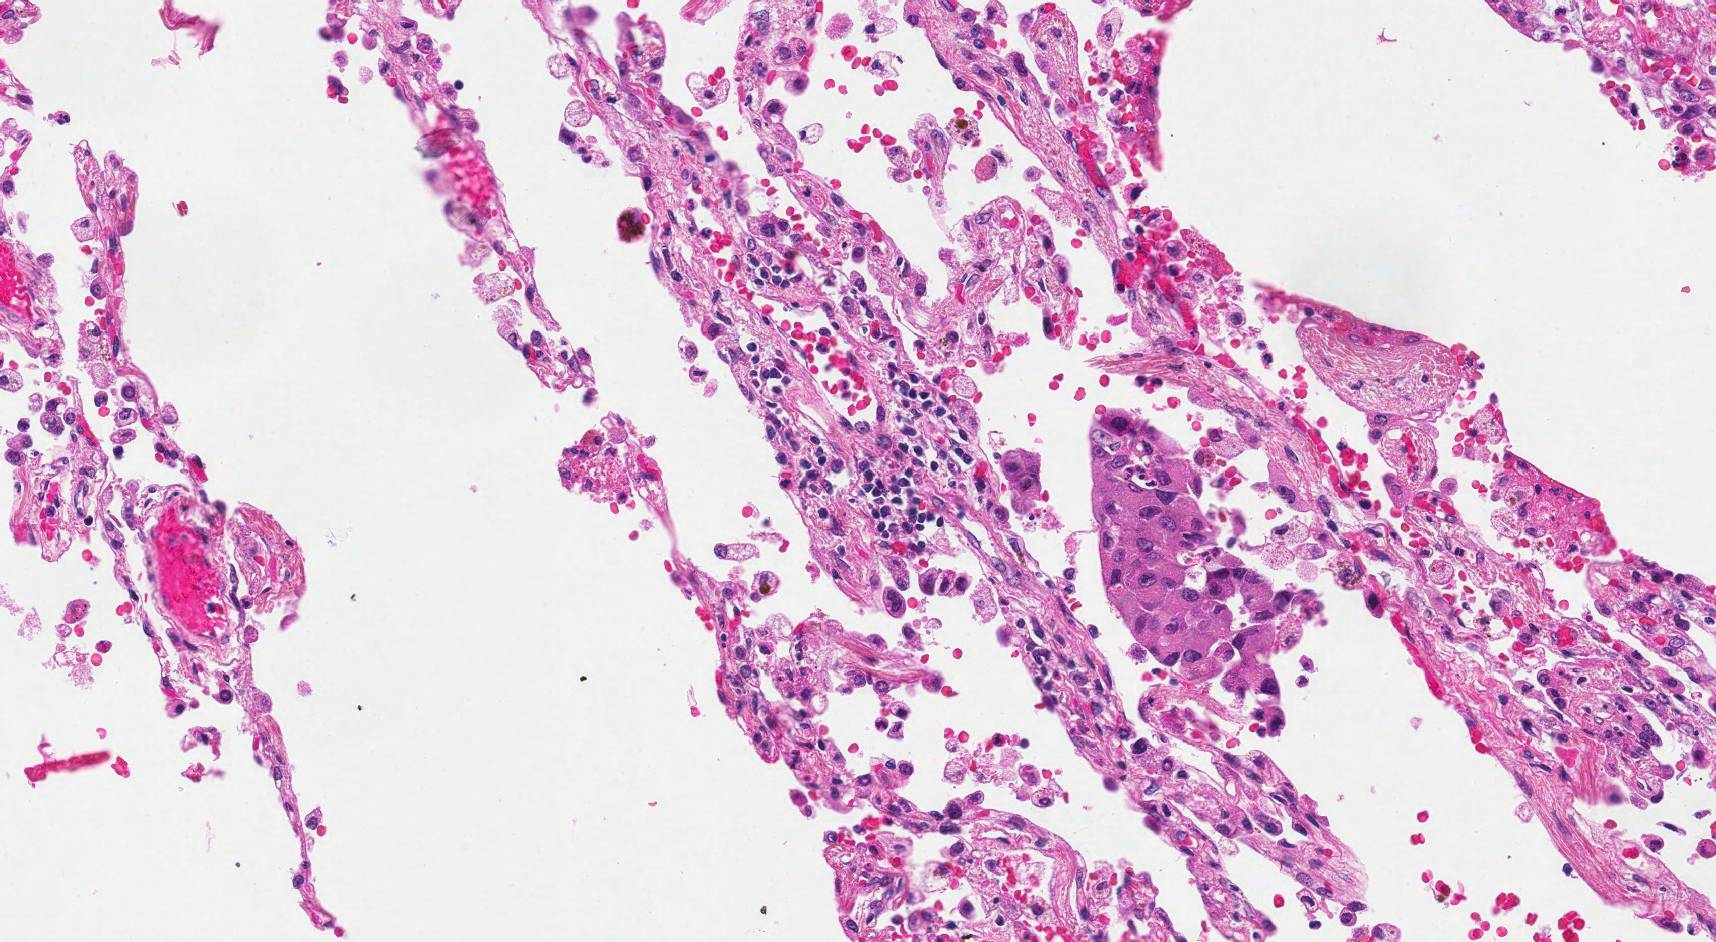stas: (1088, 406, 1295, 737), (1000, 445, 1042, 513)
